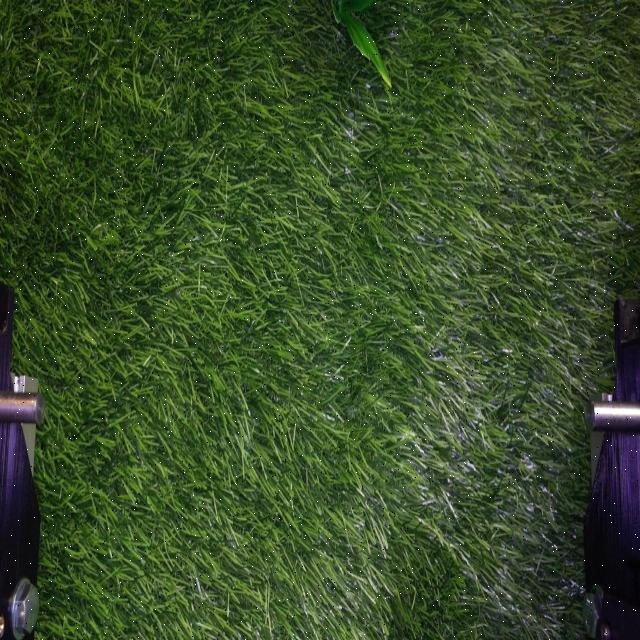dandelion: (0, 0, 363, 640)
